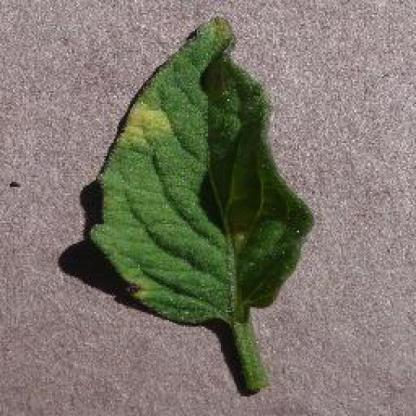Tomato_Leaf_Mold: (92, 18, 315, 319)
